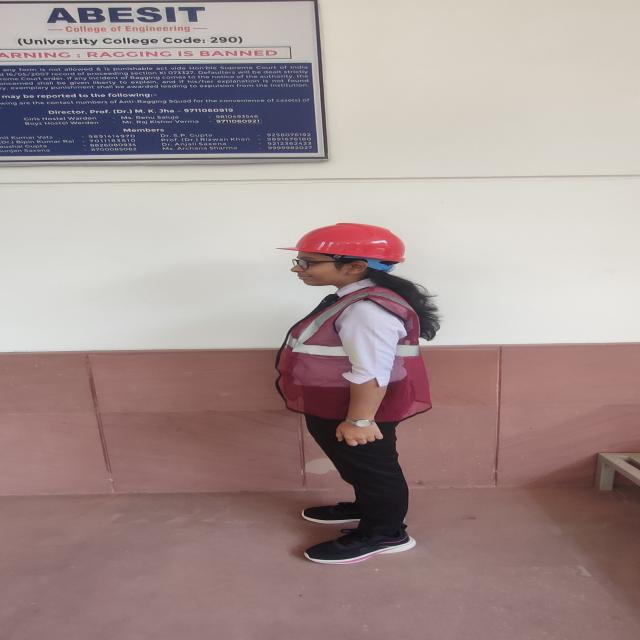safe: (275, 223, 431, 564)
